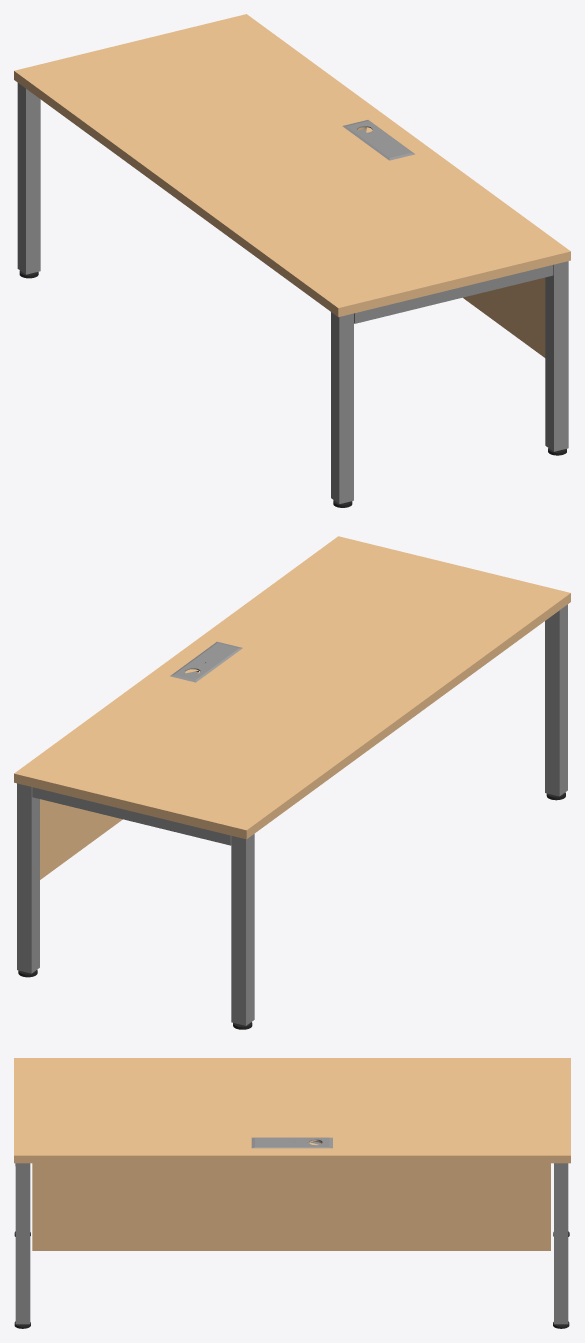
File: desk.fbx
3 views of the same model, one above another, from view 1: azimuth 30°, elevation 25°; view 2: azimuth 150°, elevation 25°; view 3: azimuth 270°, elevation 25° (orthographic). The views are drawn at different scales.
Visible parts, largest first — view 1: up, leg_right_front, leg_left_rear, leg_right_rear, front, right_bar, plug; view 2: up, leg_left_rear, leg_left_front, leg_right_rear, front, left_bar, plug; view 3: up, front, leg_right_front, leg_left_front, plug.
Boxes of the visible parts, x1,y1,x2,y2 form: up: (14,14,570,316); leg_right_front: (545,261,568,451); leg_left_rear: (17,83,40,274); leg_right_rear: (331,312,353,503); front: (463,277,545,357); right_bar: (354,265,553,323); plug: (342,120,414,160); up: (14,536,570,839); leg_left_rear: (231,834,254,1025); leg_left_front: (17,783,39,973); leg_right_rear: (545,604,567,796); front: (40,799,122,879); left_bar: (32,787,231,845); plug: (170,641,242,682); up: (14,1058,570,1163); front: (32,1163,550,1250); leg_right_front: (15,1163,30,1324); leg_left_front: (554,1163,568,1324); plug: (251,1137,332,1148).
Bounding box in the file's own units: 1.77 × 1.47 × 4.26.
